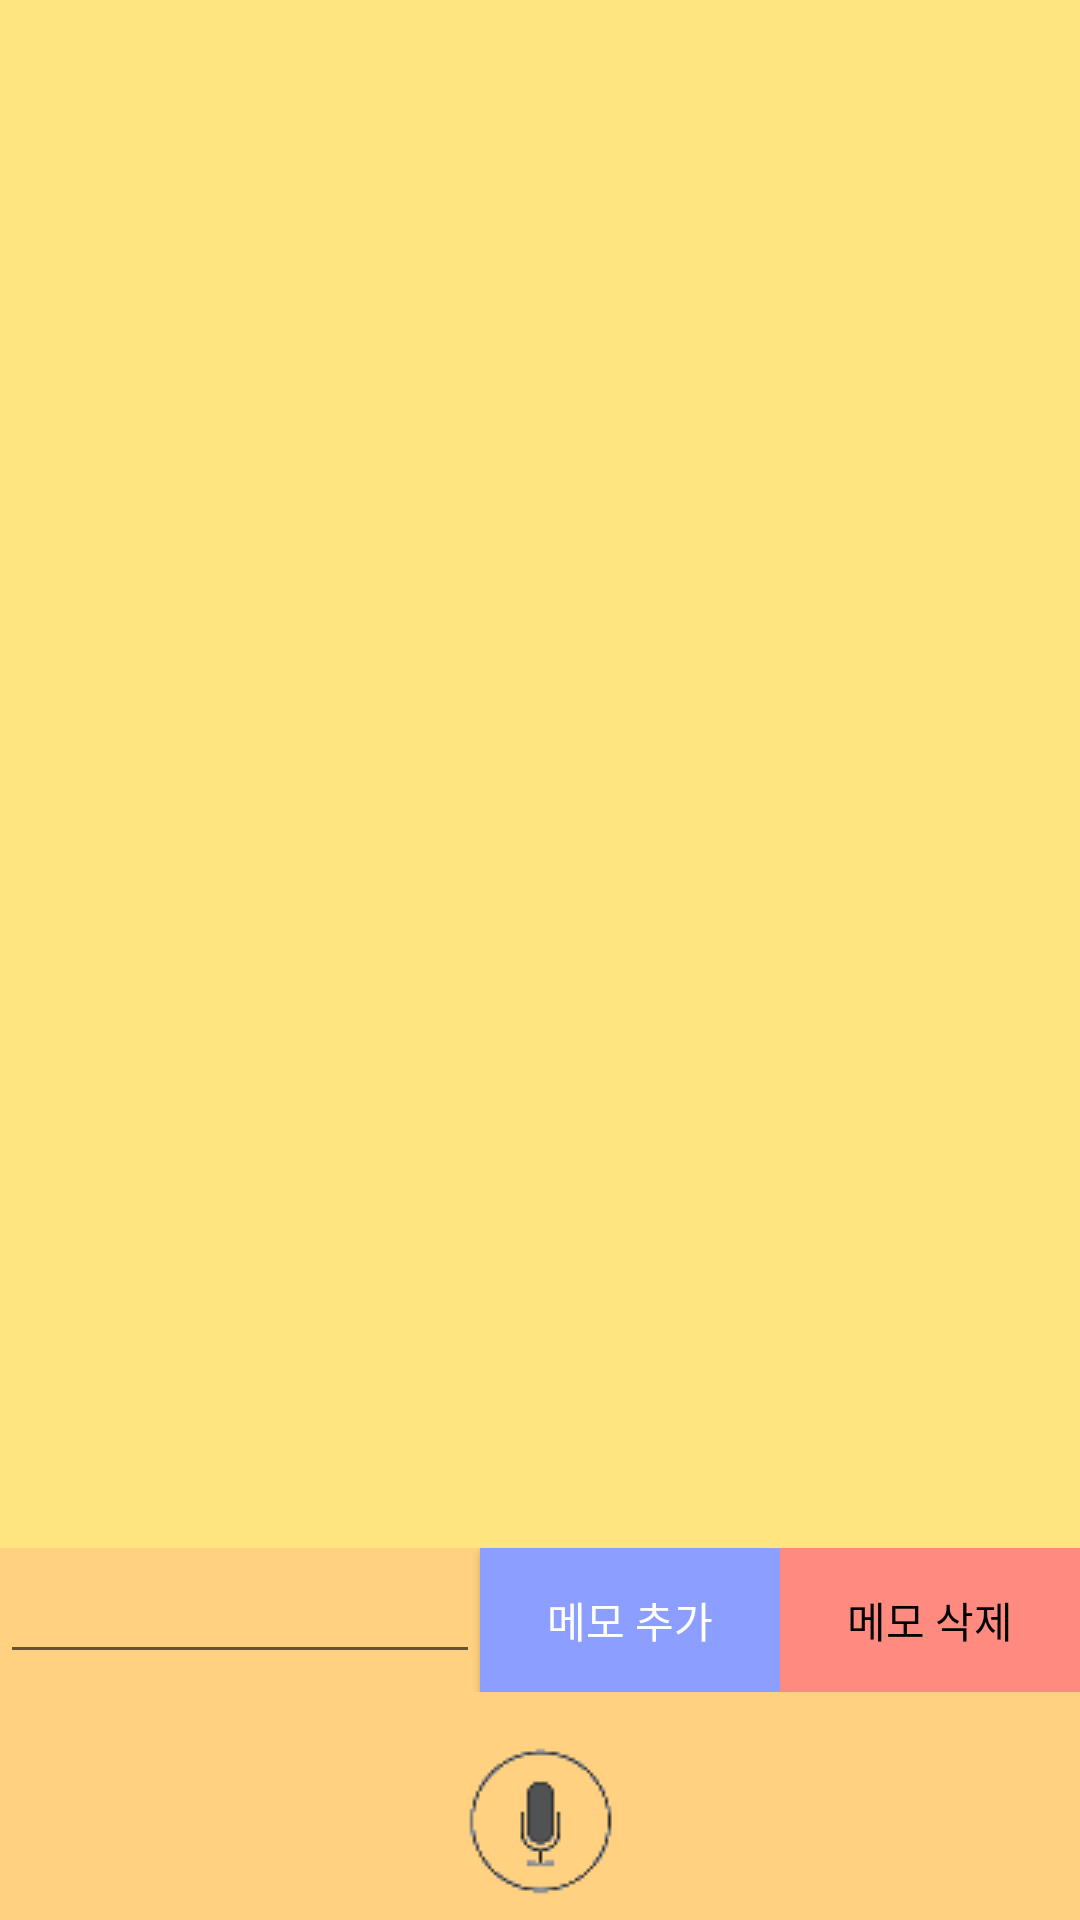

Where icons sit on this 1080px x 1920px app screen, as (x1, y1, x2, y2):
voiceimg: (469, 1748, 612, 1894)
